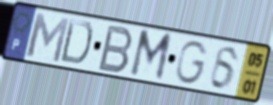6: (208, 45, 241, 92)
B: (95, 23, 135, 75)
D: (58, 16, 95, 67)
G: (174, 39, 210, 87)
M: (127, 28, 174, 84), (24, 10, 71, 65)
